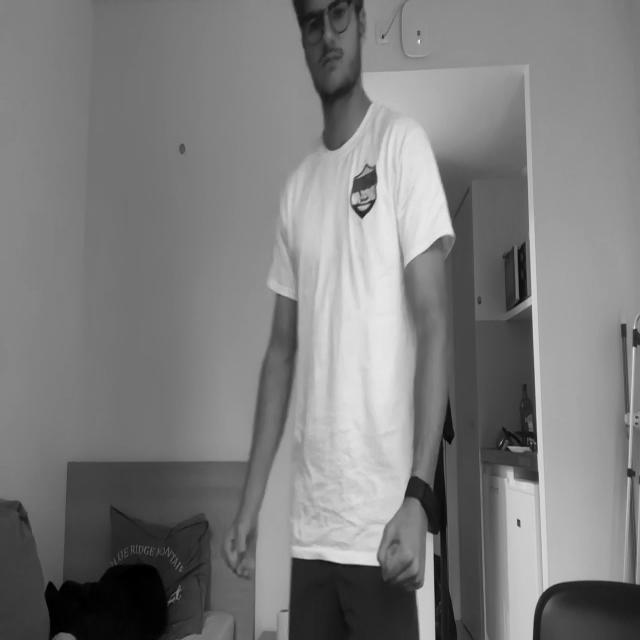elbow: (418, 309, 453, 366), (262, 329, 298, 383)
hand: (376, 495, 428, 590), (220, 504, 260, 584)
shoulder: (396, 114, 434, 215), (279, 180, 296, 257)
